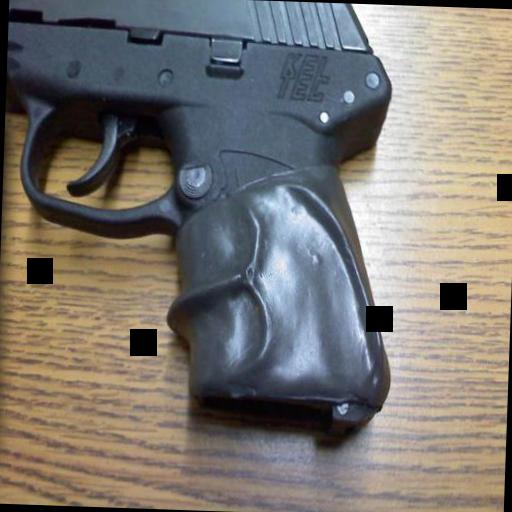Handgun: (0, 0, 403, 437)
